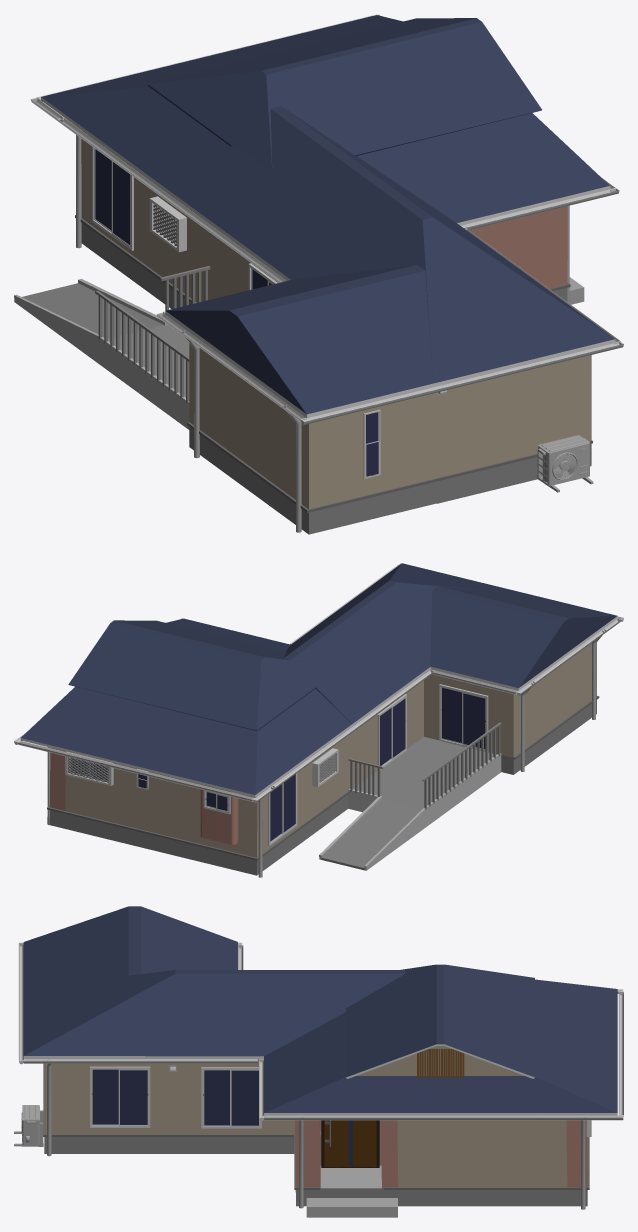
Rendered from house011.fbx.
The picture shows the model from 3 angles, top to bottom: view 1: azimuth 30°, elevation 25°; view 2: azimuth 150°, elevation 25°; view 3: azimuth 270°, elevation 25°; orthographic projection. The views are drawn at different scales.
Parts seen in each view (by area): view 1: house011; view 2: house011; view 3: house011.
Boxes of the visible parts, x1,y1,x2,y2 form: house011: [14, 14, 623, 534]; house011: [14, 563, 623, 877]; house011: [14, 906, 623, 1217].
Bounding box in the file's own units: 9.66 × 4.31 × 14.22.
